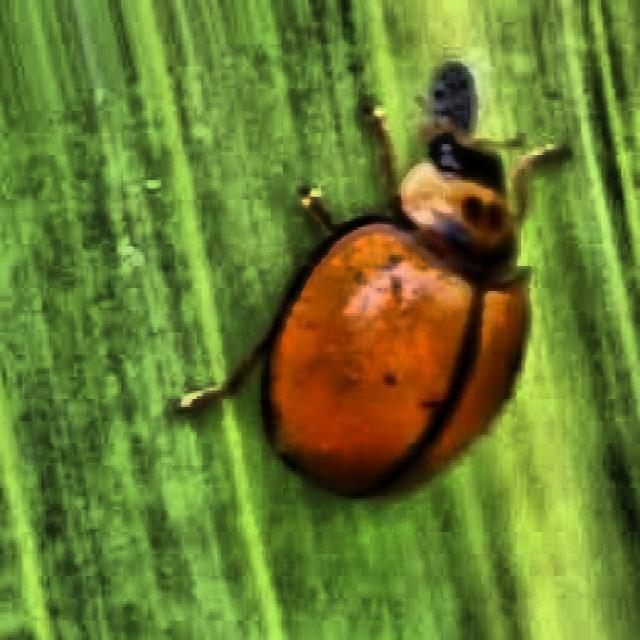Ladybug: (237, 87, 562, 514)
